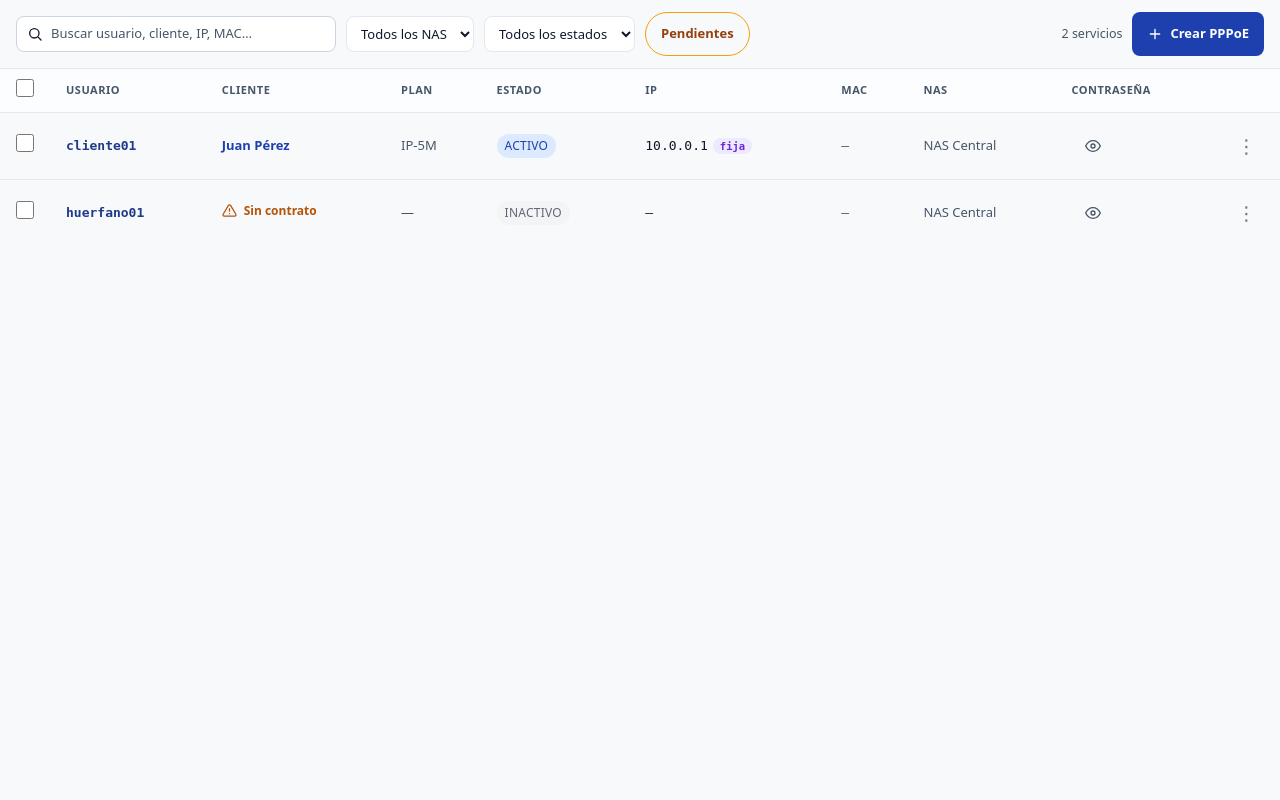
it: PppoeManagementTab — modal Renombrar › muestra alerta de advertencia cuando la respuesta es partial
Click the button named "Acciones" at (1246, 146), box [1229,132,1264,159]
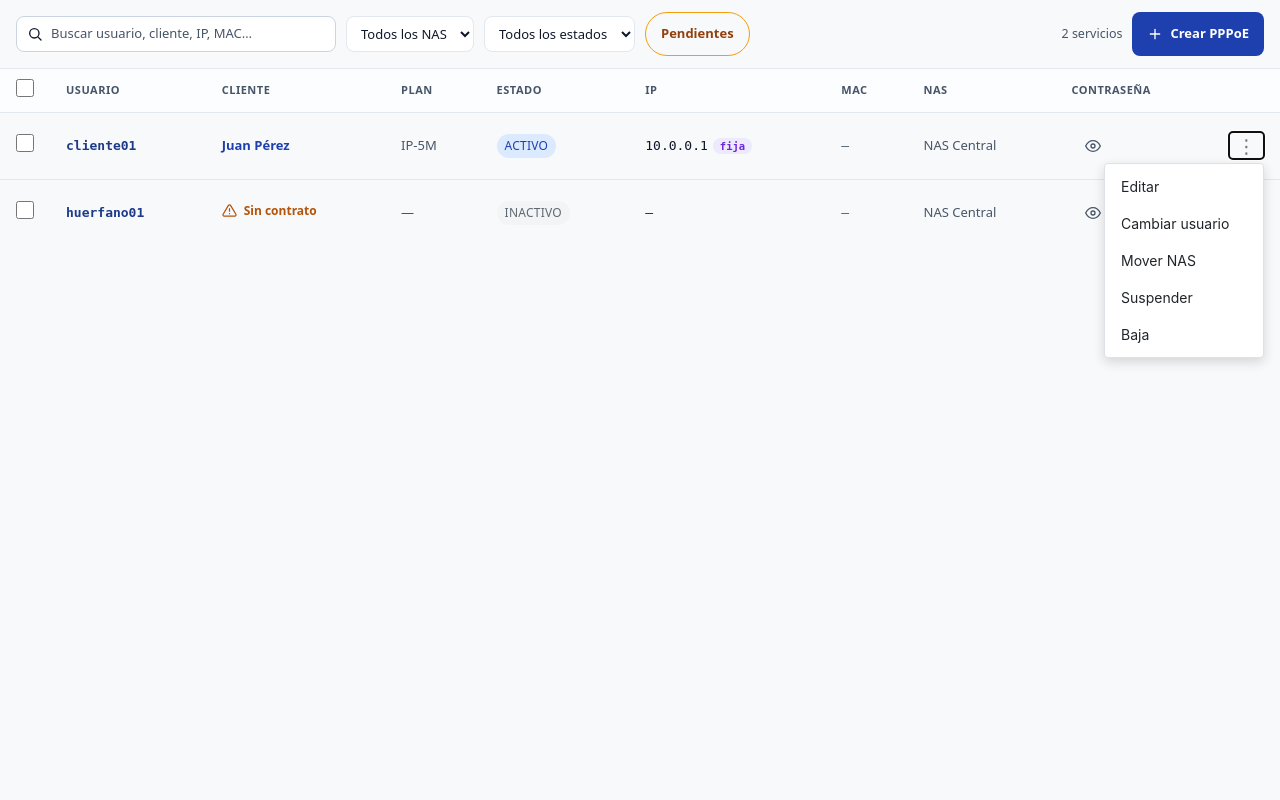
Click the menu item "Cambiar usuario" at (1184, 224), box [1105,205,1263,242]
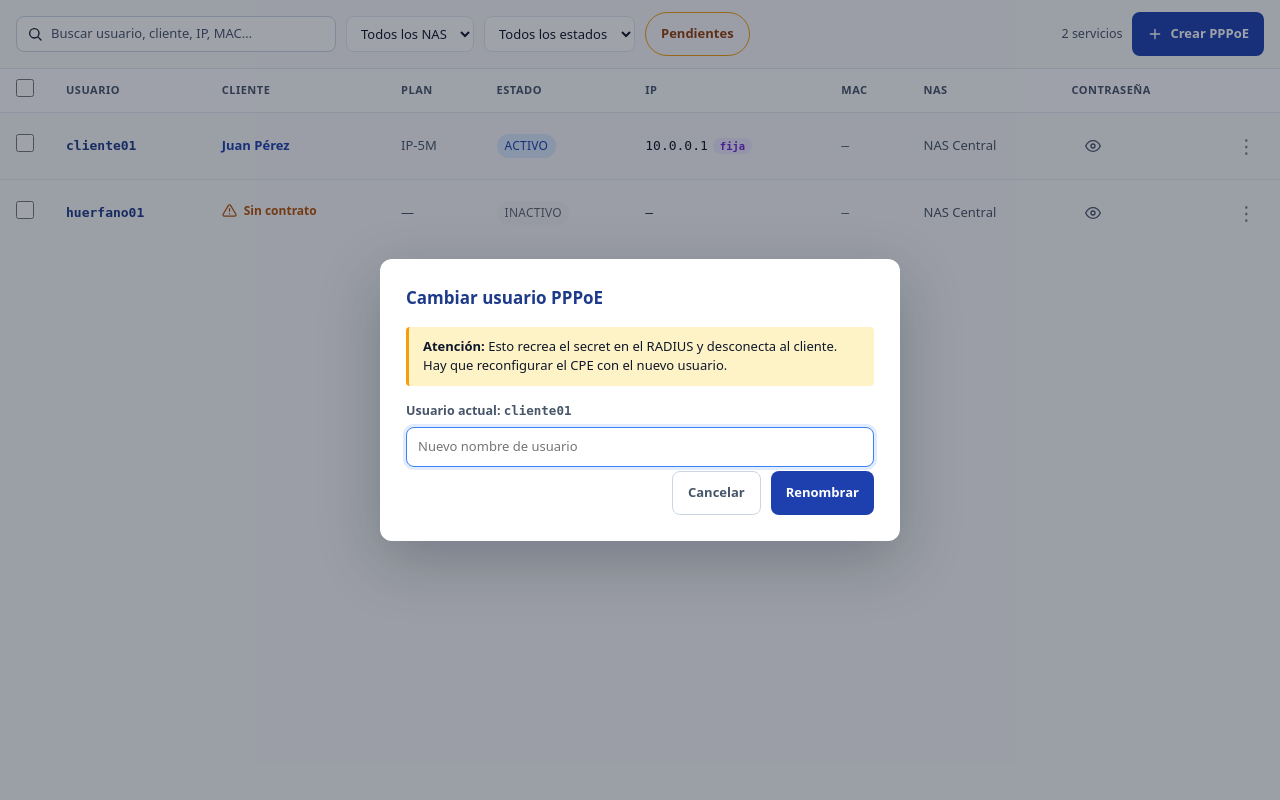
Type "nuevousuario" into the field at (640, 447), box [406,427,874,467]
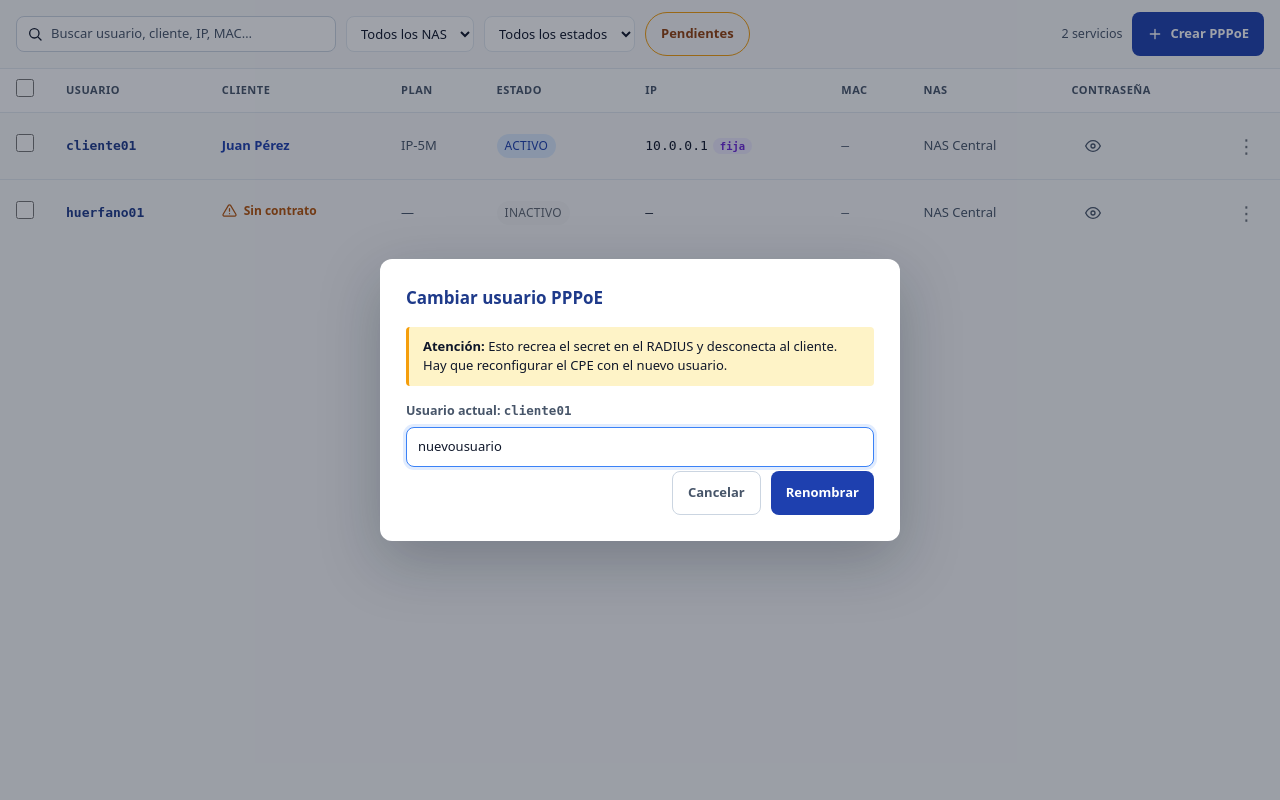
Click the button "Renombrar" at (822, 493), box [771,471,874,515]
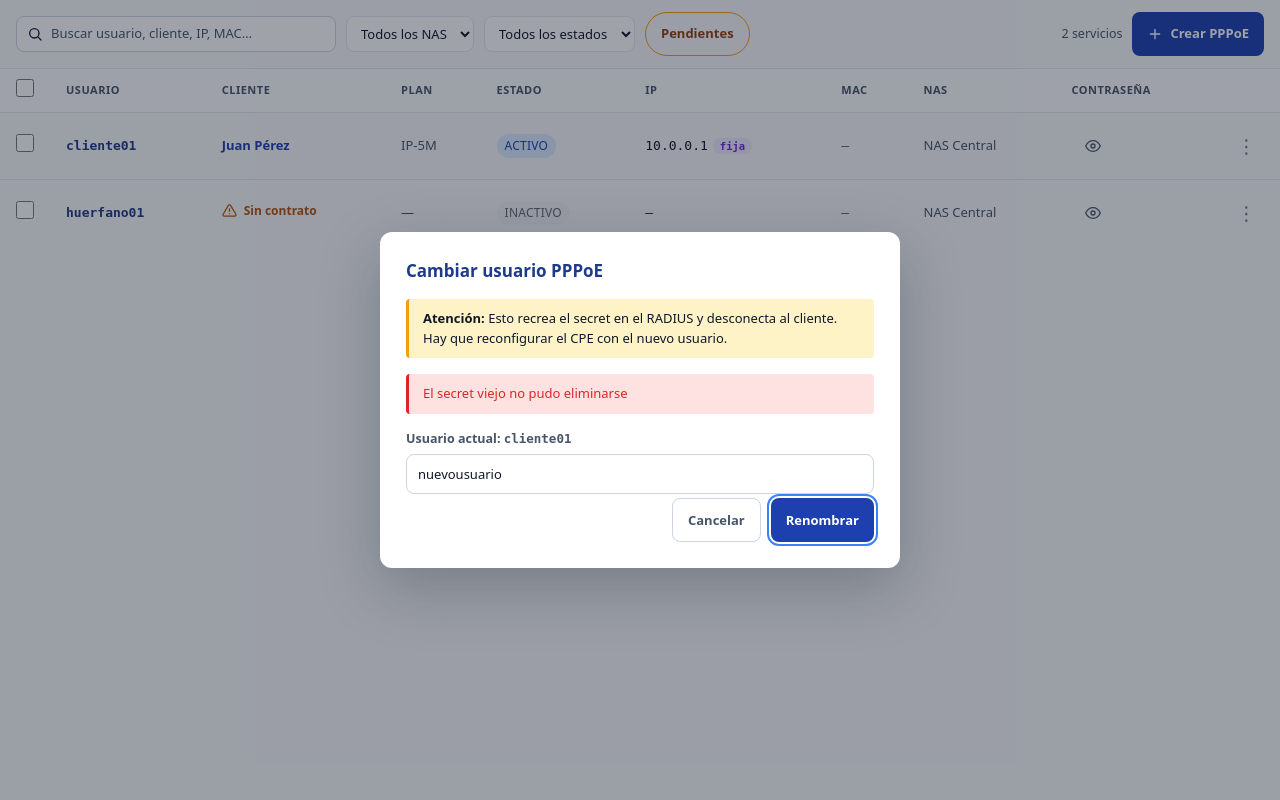
Now the text "El secret viejo no pudo eliminarse" is shown, box [406,374,874,414]
